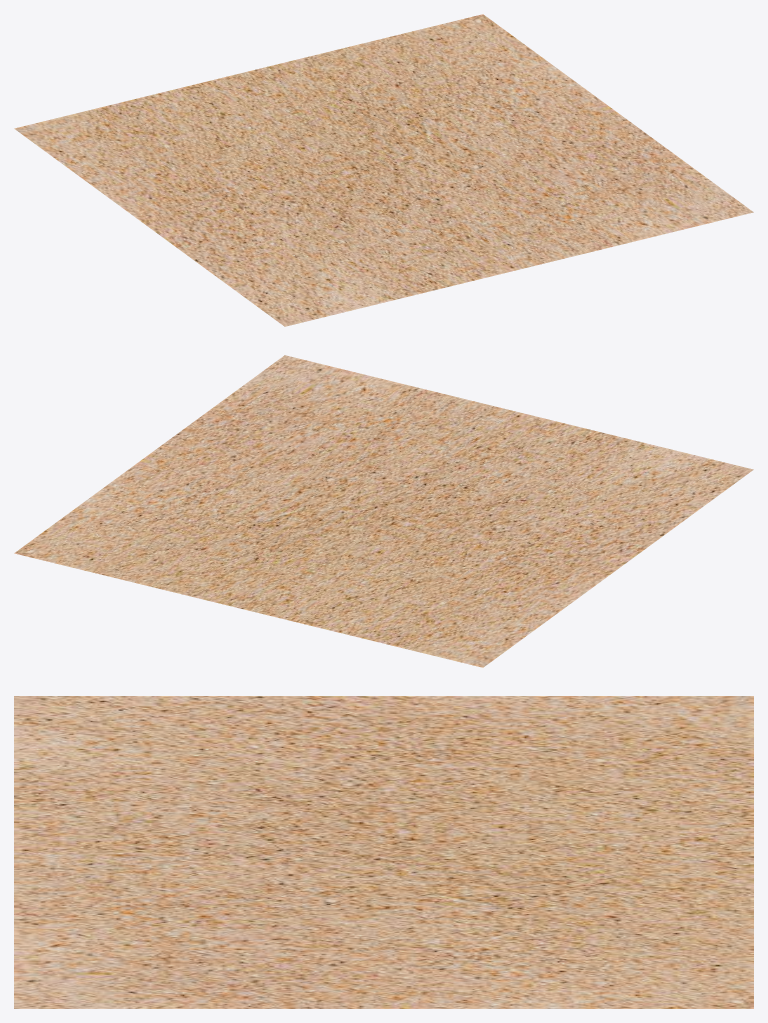
File: Piso.obj
3 views of the same model, one above another, from view 1: azimuth 30°, elevation 25°; view 2: azimuth 150°, elevation 25°; view 3: azimuth 270°, elevation 25° (orthographic). The views are drawn at different scales.
Parts seen in each view (by area): view 1: Piso; view 2: Piso; view 3: Piso.
Boxes of the visible parts, x1,y1,x2,y2 form: Piso: (14, 14, 753, 326); Piso: (14, 355, 753, 667); Piso: (14, 696, 753, 1008).
Size of the model in its own units: 5000 by 0 by 5000.
1 material, 1 textured.
